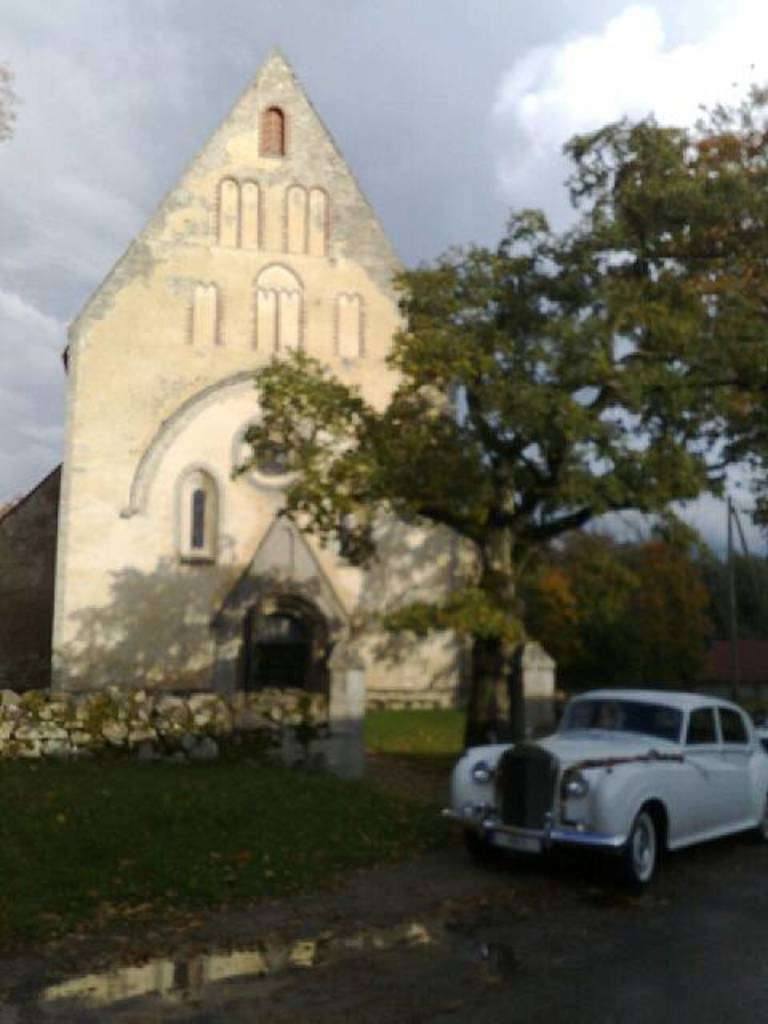Car: (447, 689, 766, 884)
